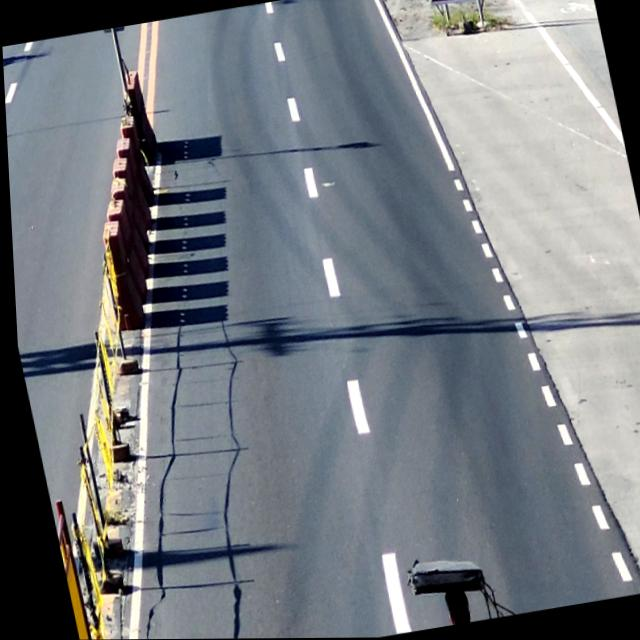Tricycle: (387, 544, 525, 633)
